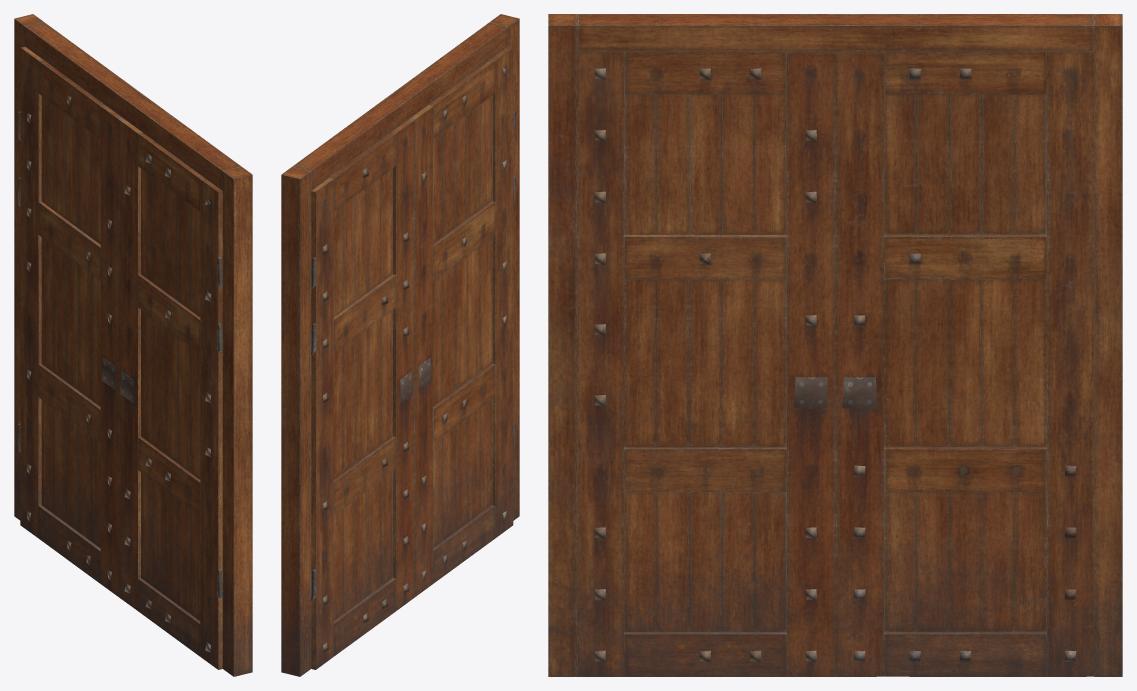
Rendered from Door08_Fracture.fbx.
3 views of the same model, side by side, from view 1: azimuth 30°, elevation 25°; view 2: azimuth 150°, elevation 25°; view 3: azimuth 270°, elevation 25° (orthographic). The views are drawn at different scales.
Visible parts, largest first — view 1: SM_Door_08a_LOD3_Part_4, MainPart_Part_11, SM_Door_08a_LOD3_Part_2, MainPart_Part_2, MainPart_Part_8, MainPart_Part_3, Part01_Part_3, Part01_Part_6, Part01_Part_8, Object006, Part01_Part_7, MainPart_Part_12 (+17 smaller); view 2: MainPart_Part_11, SM_Door_08a_LOD3_Part_2, SM_Door_08a_LOD3_Part_3, MainPart_Part_8, MainPart_Part_2, MainPart_Part_3, Part01_Part_3, Part01_Part_6, Part01_Part_8, Object006, SM_Door_08a_LOD3_Part_1, Part01_Part_7 (+16 smaller); view 3: MainPart_Part_11, MainPart_Part_2, Part01_Part_6, Part01_Part_3, SM_Door_08a_LOD3_Part_2, Part01_Part_8, MainPart_Part_3, MainPart_Part_8, Object006, Part01_Part_7, SM_Door_08a_LOD3_Part_4, Part01_Part_4 (+19 smaller).
Boxes of the visible parts, x1=… form: SM_Door_08a_LOD3_Part_4: x1=209, y1=163, x2=252, y2=572; MainPart_Part_11: x1=77, y1=87, x2=172, y2=359; SM_Door_08a_LOD3_Part_2: x1=14, y1=14, x2=236, y2=176; MainPart_Part_2: x1=119, y1=350, x2=222, y2=639; MainPart_Part_8: x1=20, y1=46, x2=98, y2=278; MainPart_Part_3: x1=95, y1=485, x2=222, y2=669; Part01_Part_3: x1=141, y1=168, x2=200, y2=317; Part01_Part_6: x1=41, y1=400, x2=100, y2=548; Part01_Part_8: x1=41, y1=96, x2=100, y2=230; Object006: x1=141, y1=310, x2=200, y2=449; Part01_Part_7: x1=41, y1=285, x2=100, y2=406; MainPart_Part_12: x1=118, y1=118, x2=222, y2=286; MainPart_Part_11: x1=368, y1=120, x2=466, y2=362; SM_Door_08a_LOD3_Part_2: x1=281, y1=25, x2=503, y2=248; SM_Door_08a_LOD3_Part_3: x1=281, y1=404, x2=311, y2=676; MainPart_Part_8: x1=311, y1=150, x2=393, y2=365; MainPart_Part_2: x1=414, y1=333, x2=515, y2=504; MainPart_Part_3: x1=391, y1=495, x2=513, y2=614; Part01_Part_3: x1=433, y1=95, x2=492, y2=244; Part01_Part_6: x1=333, y1=472, x2=392, y2=620; Part01_Part_8: x1=333, y1=168, x2=392, y2=300; Object006: x1=433, y1=237, x2=492, y2=375; SM_Door_08a_LOD3_Part_1: x1=281, y1=238, x2=316, y2=409; Part01_Part_7: x1=333, y1=347, x2=392, y2=479; MainPart_Part_11: x1=698, y1=52, x2=949, y2=357; MainPart_Part_2: x1=577, y1=348, x2=835, y2=638; Part01_Part_6: x1=884, y1=491, x2=1046, y2=632; Part01_Part_3: x1=624, y1=94, x2=786, y2=234; SM_Door_08a_LOD3_Part_2: x1=589, y1=14, x2=1122, y2=115; Part01_Part_8: x1=884, y1=94, x2=1046, y2=235; MainPart_Part_3: x1=577, y1=545, x2=895, y2=676; MainPart_Part_8: x1=893, y1=52, x2=1093, y2=286; Object006: x1=624, y1=279, x2=786, y2=422; Part01_Part_7: x1=884, y1=304, x2=1046, y2=447; SM_Door_08a_LOD3_Part_4: x1=548, y1=14, x2=611, y2=535; Part01_Part_4: x1=662, y1=492, x2=786, y2=632.
Bounding box in the file's own units: 5.75 × 98.43 × 78.74.
